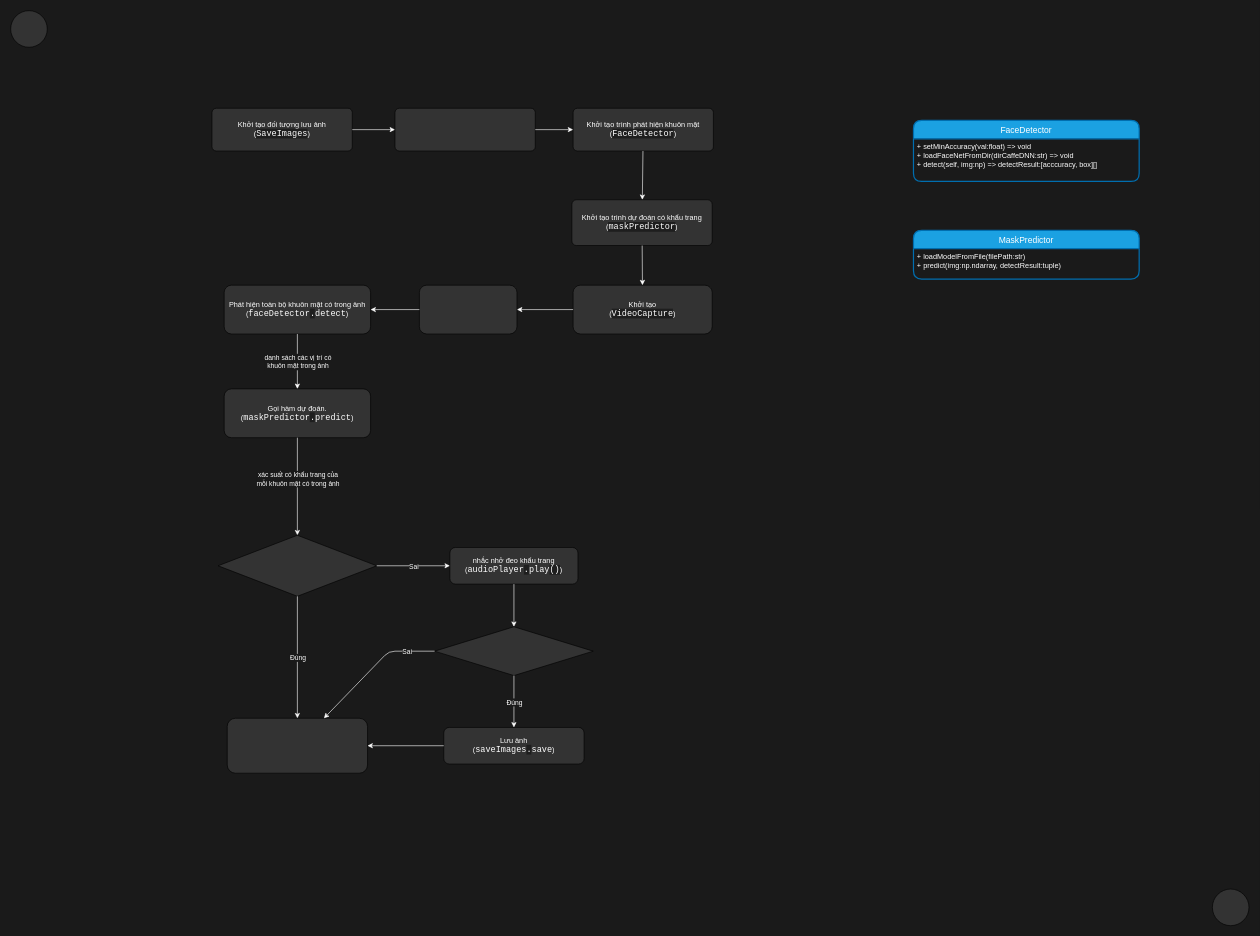
This 1260x936 diagram has some shape labels left out. Here are the shapes that lost their labels. From the top down, the box of each, then its label:
(394, 108, 535, 151): Khởi tạo trình phát âm thanh ( AudioPlayer )
(419, 285, 517, 334): Trích xuất ảnh từ camera
(217, 535, 377, 596): Xác xuất có khẩu trang > 0.5 ( isWithoutMask ( predict ) )
(434, 626, 593, 676): Trình lưu ảnh sẵn sàng ( saveImages . ready )
(227, 718, 368, 773): Vẽ các dự đoán
